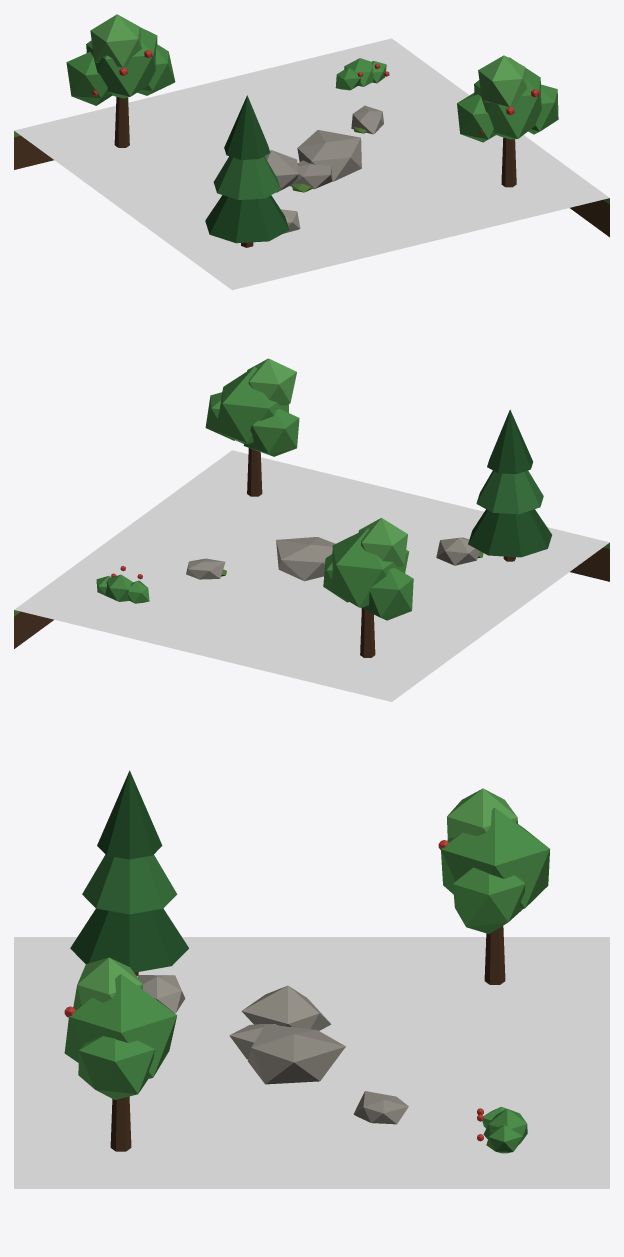
File: rocks.glb
The picture shows the model from 3 angles, top to bottom: view 1: azimuth 30°, elevation 25°; view 2: azimuth 150°, elevation 25°; view 3: azimuth 270°, elevation 25°; orthographic projection. The views are drawn at different scales.
Parts seen in each view (by area): view 1: rocks; view 2: rocks; view 3: rocks.
Boxes of the visible parts, left/top/right/bottom form: rocks: left=14, top=14, right=609, bottom=290; rocks: left=14, top=358, right=609, bottom=701; rocks: left=14, top=770, right=609, bottom=1188.
Size of the model in its own units: 2 by 0.96 by 2.
